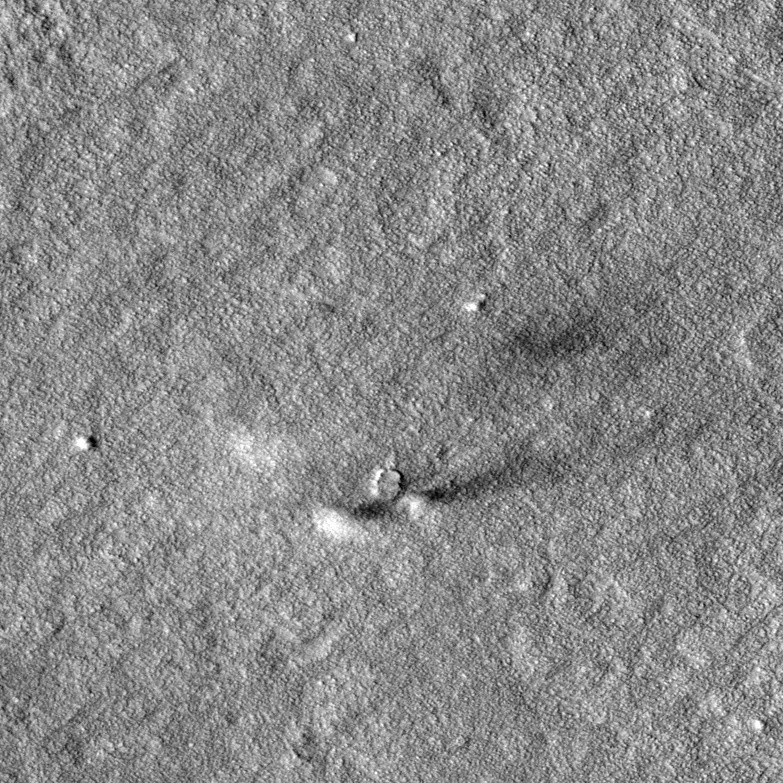dust_devil: (400, 466, 513, 522), (311, 496, 398, 546)
